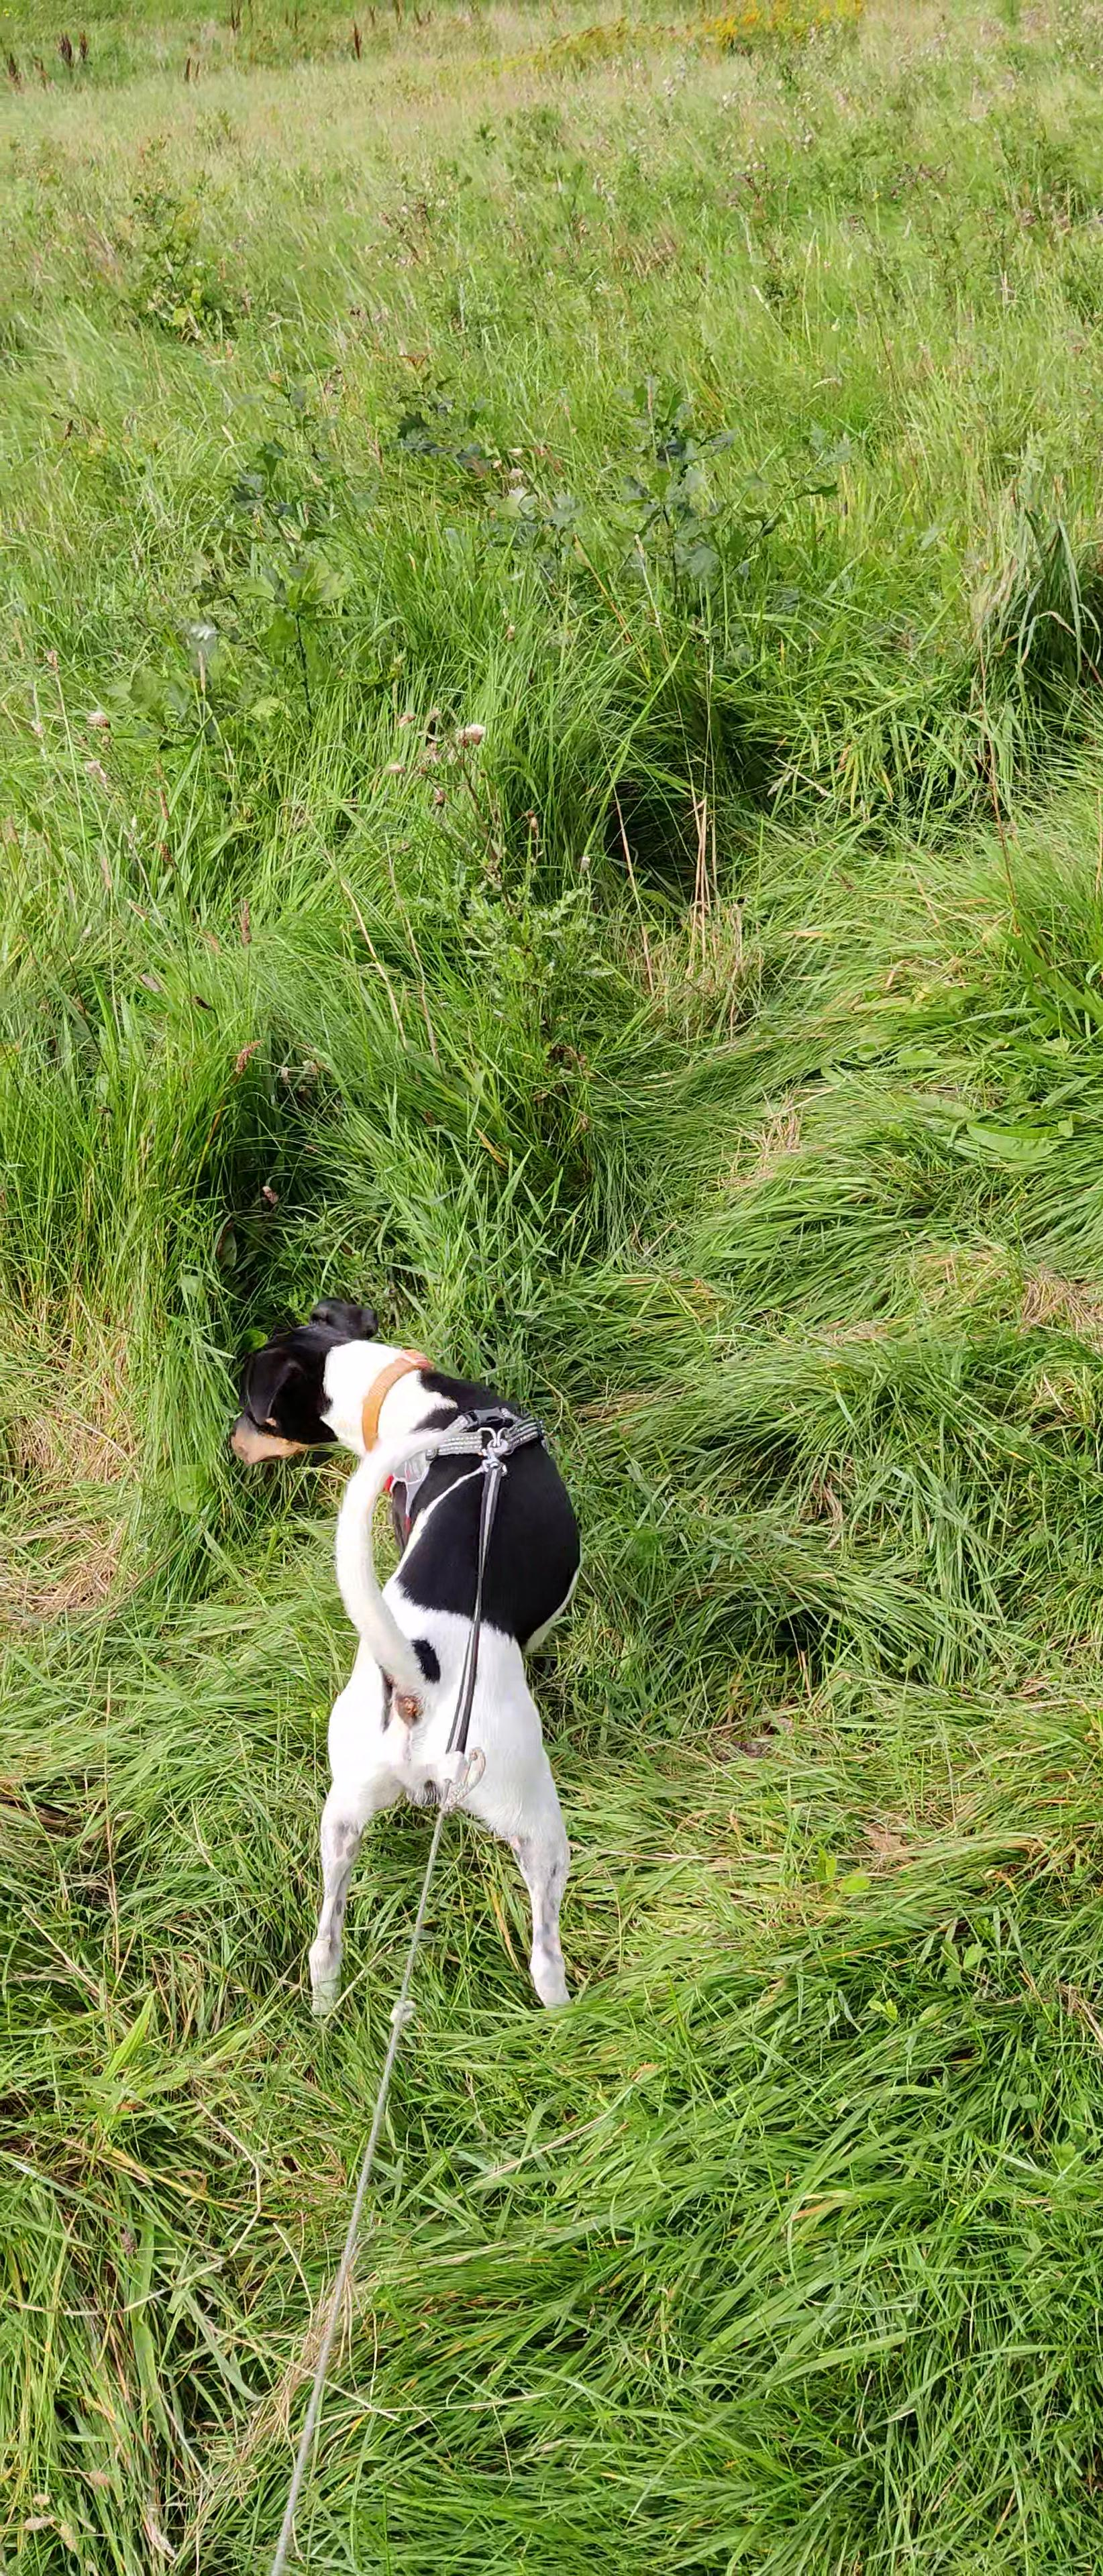Dog: (178, 1265, 630, 2029)
